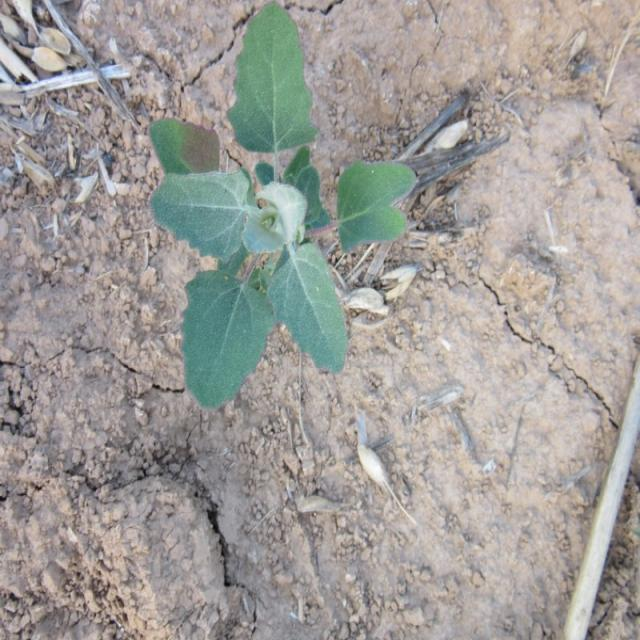ca: (145, 0, 416, 409)
